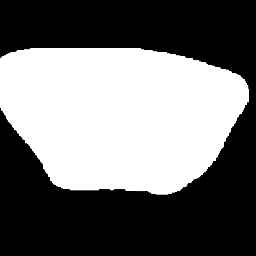mass: (5, 33, 232, 195)
